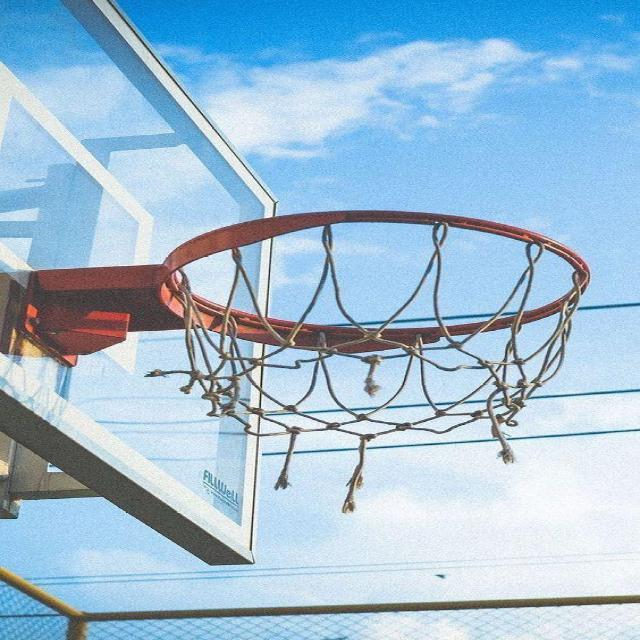hoop: (116, 192, 624, 470)
